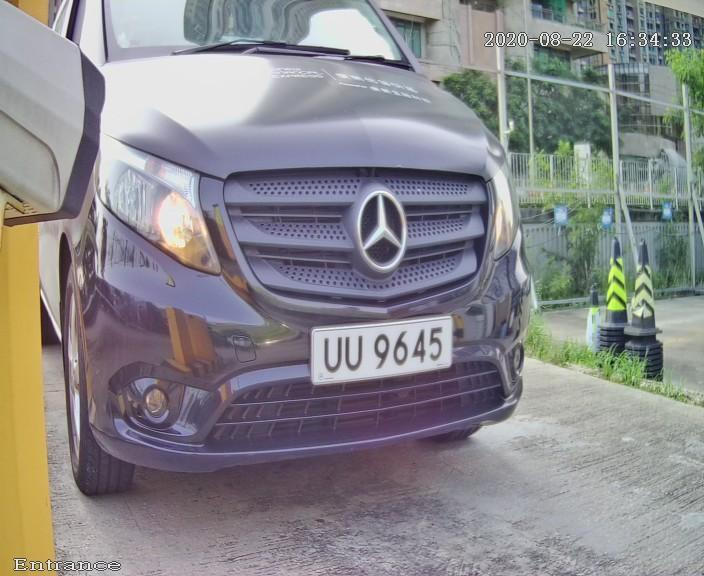Car: (13, 6, 563, 525)
License Plate: (305, 304, 462, 391)
